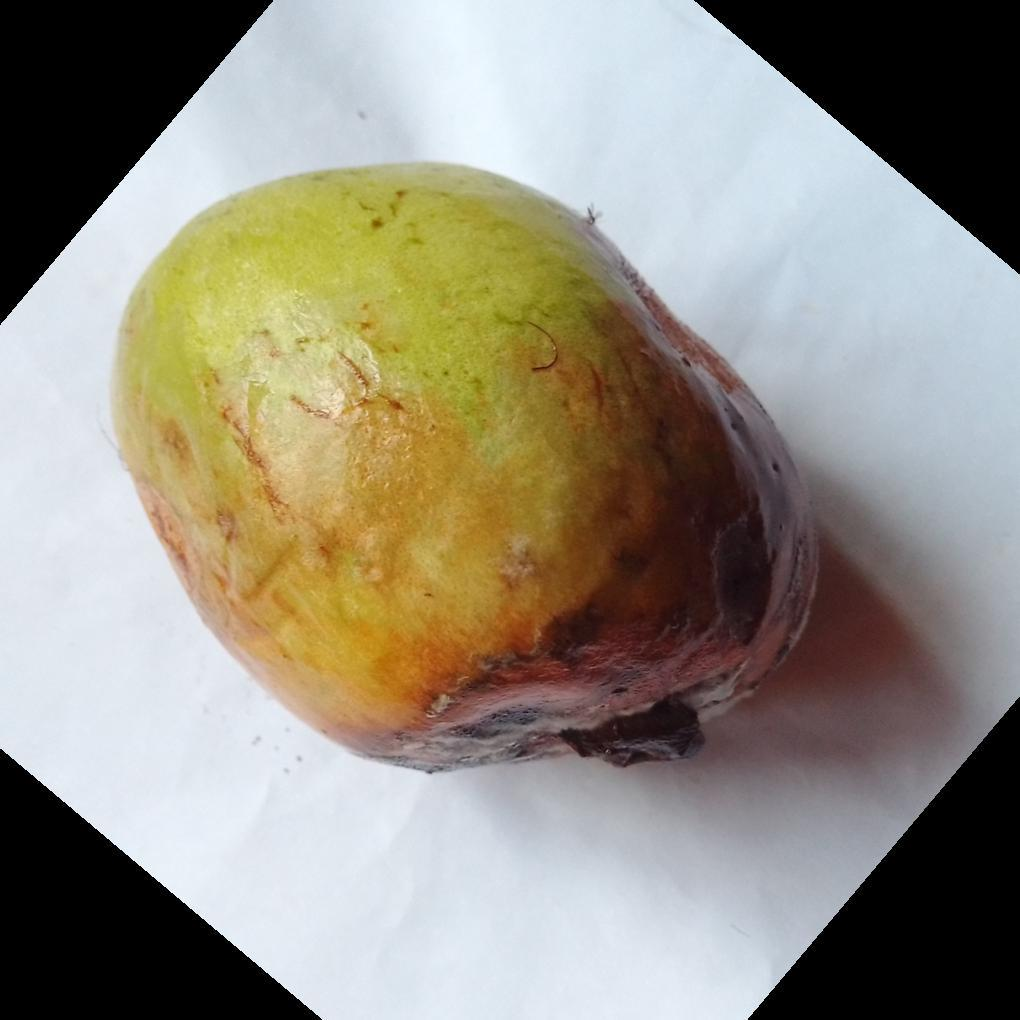FreshOrange: (106, 162, 820, 777)
